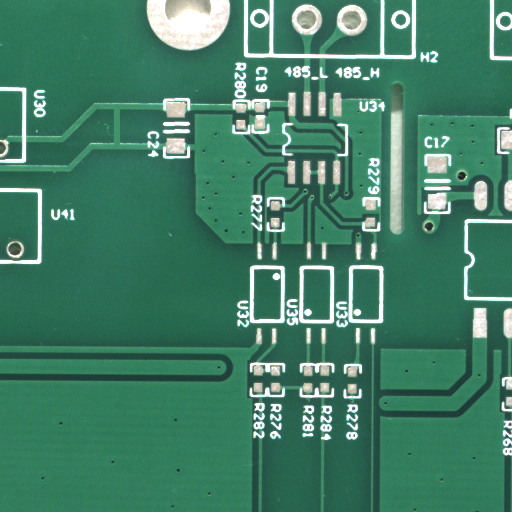Short: (117, 127, 126, 166)
